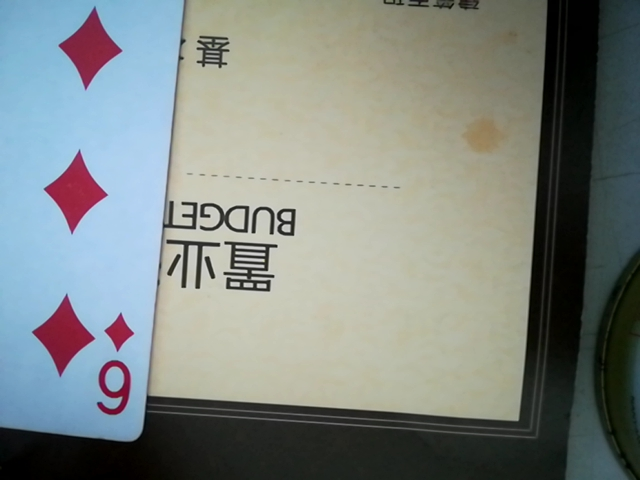fk 6: (0, 0, 185, 452)
